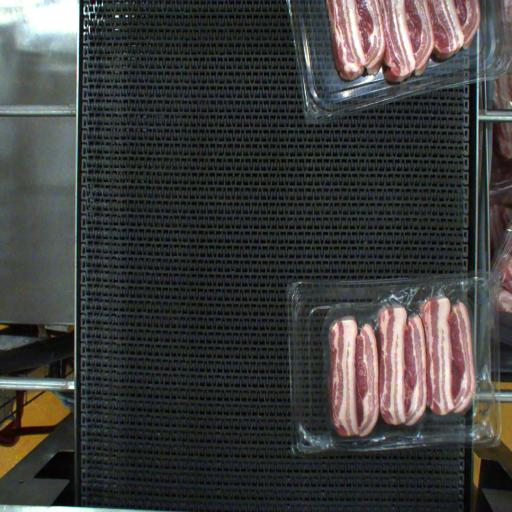unsealed: (337, 275, 497, 436)
